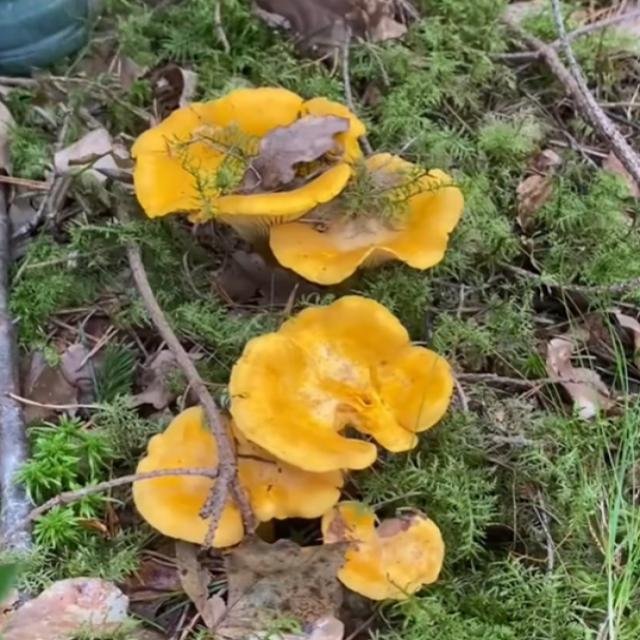chanterelle: (228, 296, 456, 473), (131, 88, 366, 244), (131, 405, 345, 550), (268, 153, 464, 286)
